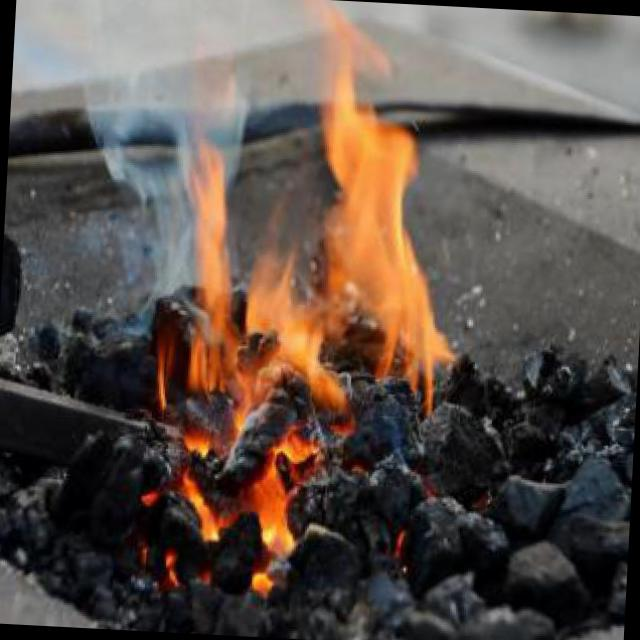fire: (139, 46, 483, 601)
smoke: (34, 0, 255, 288)
